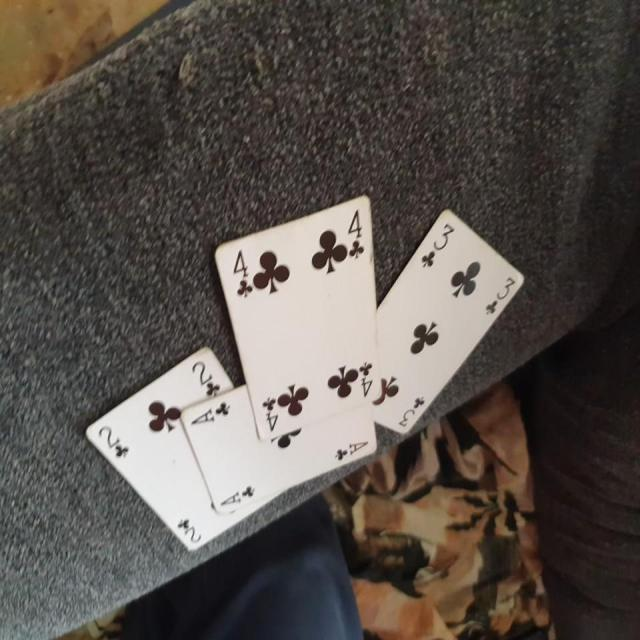2 Trefoils: (83, 346, 250, 554)
3 Trefoils: (376, 205, 526, 438)
4 Trefoils: (210, 195, 382, 442)
A Trefoils: (179, 384, 378, 514)
